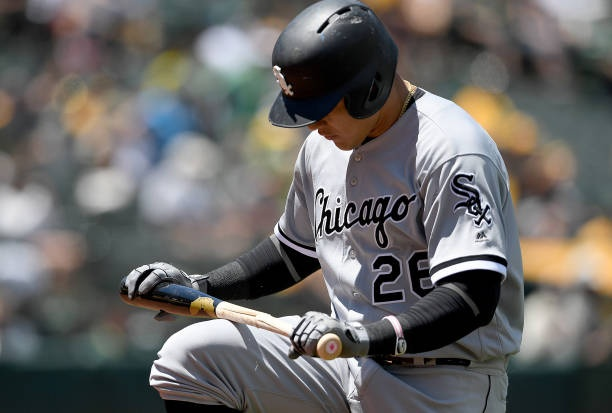bita: (117, 276, 344, 350)
